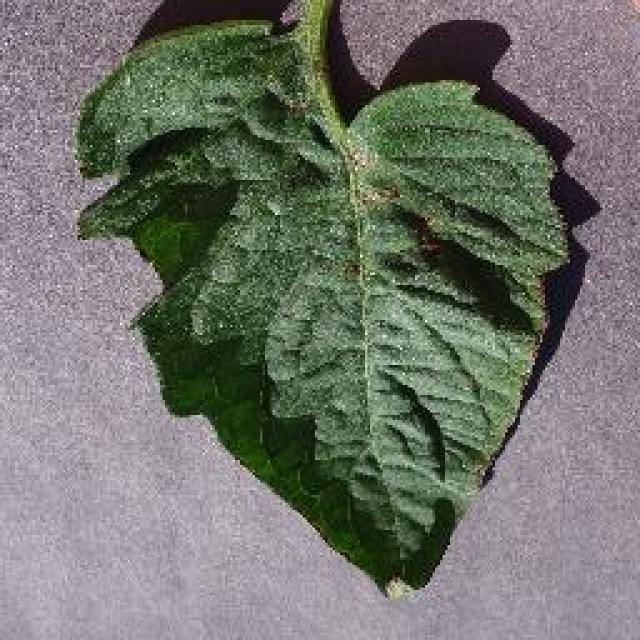Tomato___Target_Spot: (78, 0, 565, 595)
